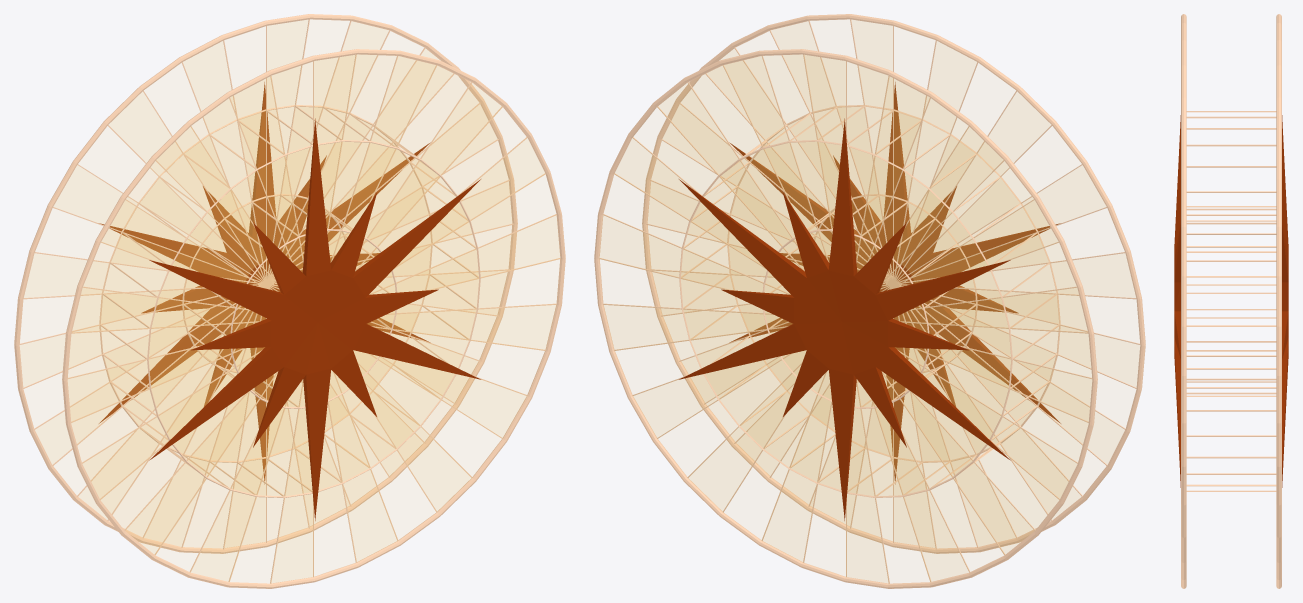
Rendered from Ferris_wheel.glb.
The picture shows the model from 3 angles, left to right: view 1: azimuth 30°, elevation 25°; view 2: azimuth 150°, elevation 25°; view 3: azimuth 270°, elevation 25°; orthographic projection.
Visible parts, largest first — view 1: Ferris_wheel_glass, Ferris_wheel; view 2: Ferris_wheel_glass, Ferris_wheel; view 3: Ferris_wheel.
Part boxes in pixels (box(x1,y1,x2,y2)): Ferris_wheel_glass: box(20, 20, 559, 582); Ferris_wheel: box(14, 14, 565, 588); Ferris_wheel_glass: box(600, 20, 1139, 582); Ferris_wheel: box(594, 14, 1145, 588); Ferris_wheel: box(1174, 14, 1288, 588).
Size of the model in its own units: 60.6 by 60.6 by 11.99.
Materials: 1 (1 with a texture image).
